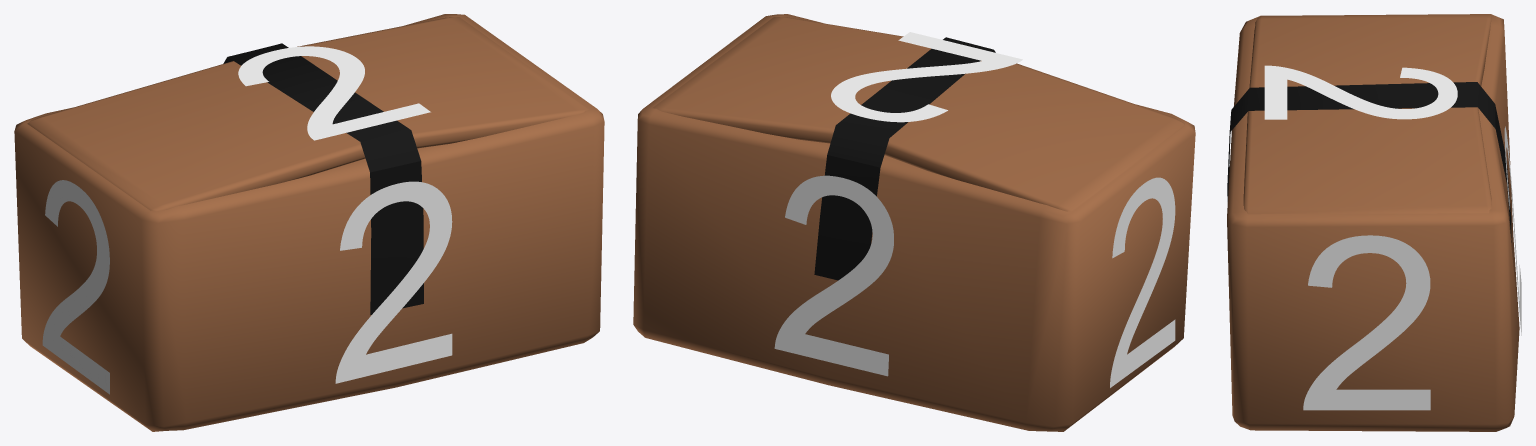
Rendered from Parcel_v1_2.FBX.
The picture shows the model from 3 angles, left to right: view 1: azimuth 30°, elevation 25°; view 2: azimuth 150°, elevation 25°; view 3: azimuth 270°, elevation 25°; orthographic projection. The views are drawn at different scales.
Visible parts, largest first — view 1: Parcel_2; view 2: Parcel_2; view 3: Parcel_2.
Part boxes in pixels (<box>): Parcel_2: <box>14,14,604,431</box>; Parcel_2: <box>633,14,1195,431</box>; Parcel_2: <box>1227,14,1521,431</box>.
Bounding box in the file's own units: 62.84 × 34.03 × 37.08.
